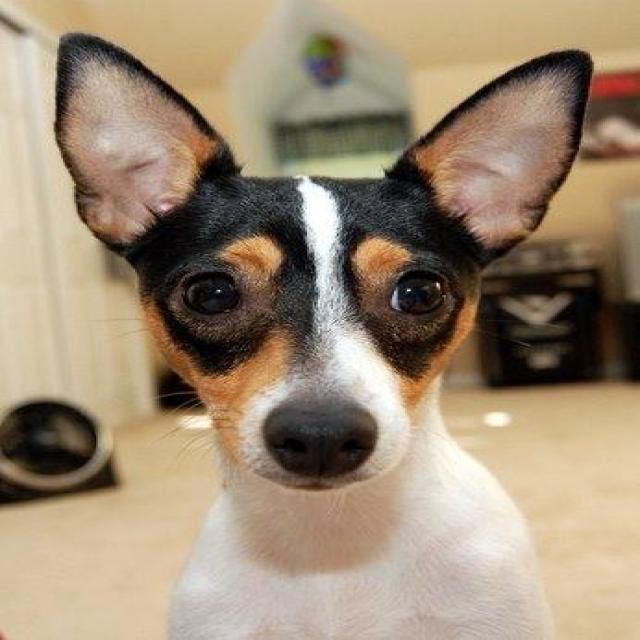toy_terrier: (41, 25, 606, 637)
